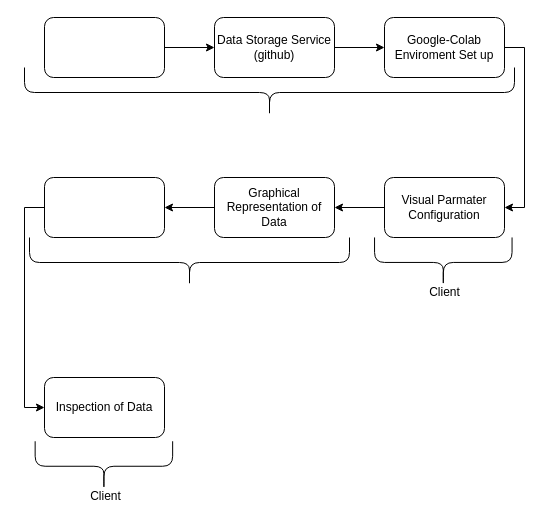
Some shapes in this 550 by 529 pixel diagram are drawn without their labels. The box of each missing label's shape, as (x1, y1, x2, y2) in pixels:
Developer Stage: (24, 66, 514, 118)
Pre-Processed Data: (44, 16, 164, 78)
Rasterization of data: (44, 176, 164, 238)
Server: (28, 236, 350, 288)
